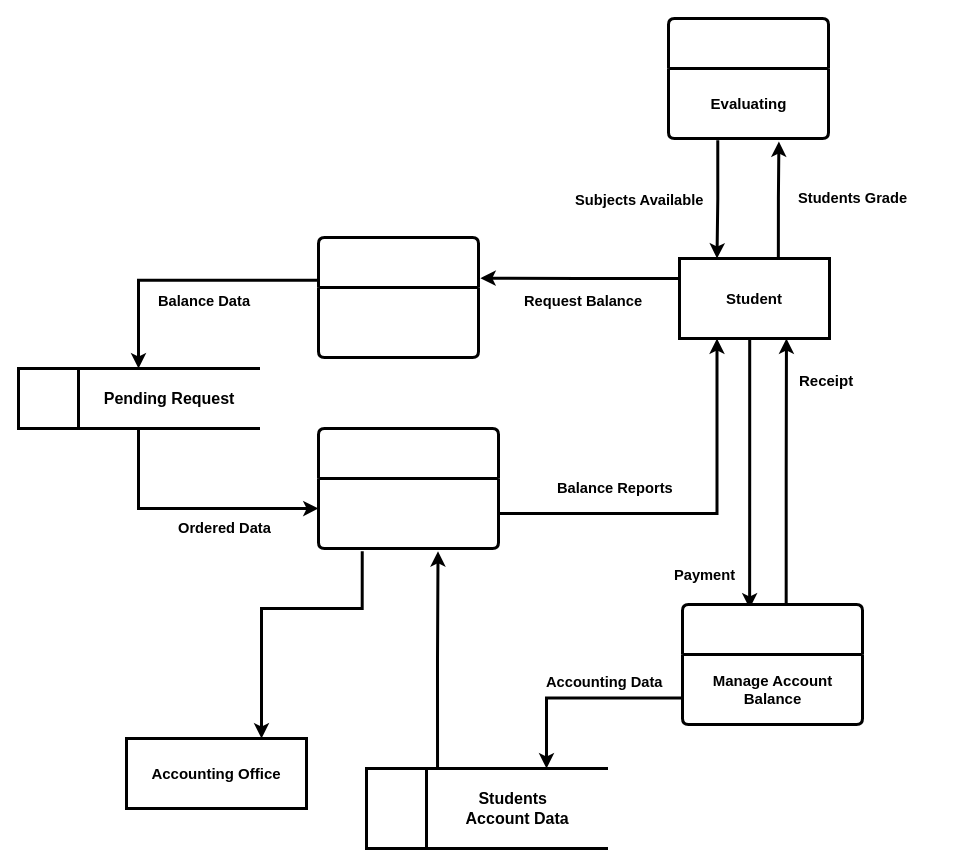
The diagram is 975 pixels wide and 868 high, and some of its shapes have lost their labels. The shapes that lost their labels are listed below. From the top down, each one's centre as x and y in pixels, then its label:
At point 398,297: "Check Balance".
At point 408,488: "Produce Reports".
